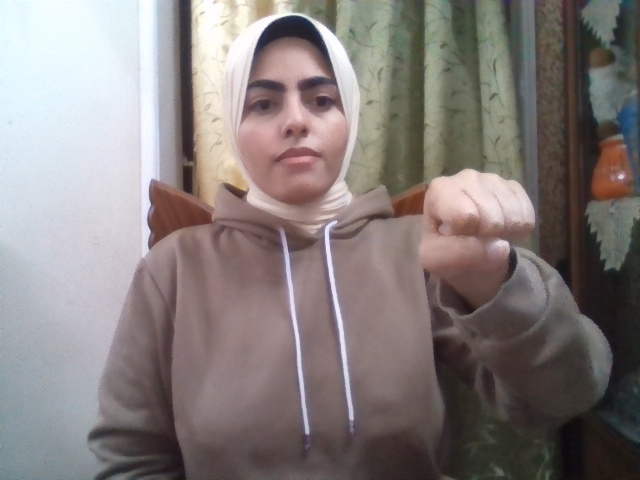yes: (417, 169, 536, 268)
